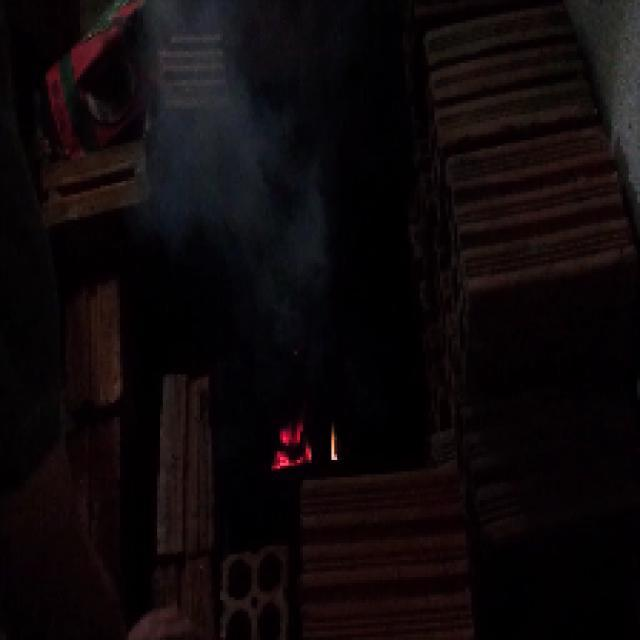Fire: (263, 409, 343, 473)
